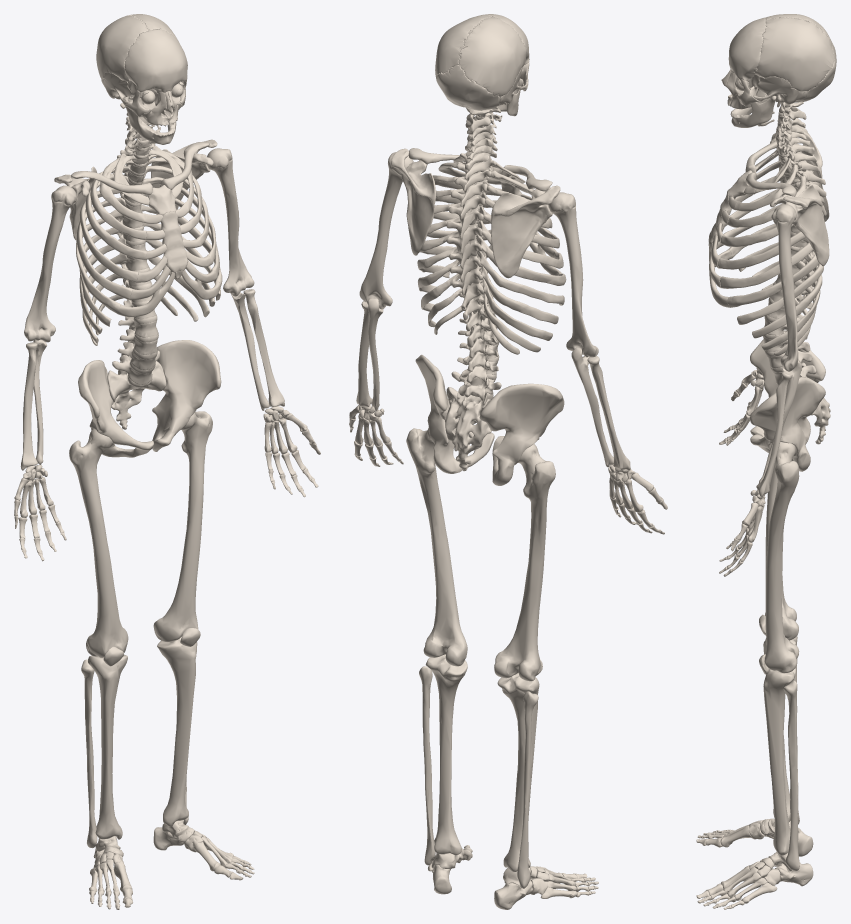
File: bodyparts3d-skeleton.glb
3 views of the same model, side by side, from view 1: azimuth 30°, elevation 25°; view 2: azimuth 150°, elevation 25°; view 3: azimuth 270°, elevation 25° (orthographic). The views are drawn at different scales.
Visible parts, largest first — view 1: STR-ESQ-0230, STR-ESQ-0127, STR-ESQ-0154, STR-ESQ-0148, STR-ESQ-0069, STR-ESQ-0250, STR-ESQ-0021, STR-ESQ-0233, STR-ESQ-0130, STR-ESQ-0243, STR-ESQ-0256, STR-ESQ-0231 (+17 smaller); view 2: STR-ESQ-0230, STR-ESQ-0127, STR-ESQ-0021, STR-ESQ-0243, STR-ESQ-0247, STR-ESQ-0148, STR-ESQ-0250, STR-ESQ-0154, STR-ESQ-0233, STR-ESQ-0145, STR-ESQ-0256, STR-ESQ-0130 (+14 smaller); view 3: STR-ESQ-0127, STR-ESQ-0140, STR-ESQ-0148, STR-ESQ-0154, STR-ESQ-0130, STR-ESQ-0145, STR-ESQ-0128, STR-ESQ-0069, STR-ESQ-0021, STR-ESQ-0230, STR-ESQ-0143, STR-ESQ-0147 (+24 smaller).
Boxes of the visible parts, box(x1,y1,x2,y2) form: STR-ESQ-0230: box(69, 428, 128, 657); STR-ESQ-0127: box(153, 411, 212, 642); STR-ESQ-0154: box(152, 340, 221, 451); STR-ESQ-0148: box(157, 636, 197, 826); STR-ESQ-0069: box(125, 28, 187, 93); STR-ESQ-0250: box(88, 654, 127, 839); STR-ESQ-0021: box(78, 360, 153, 457); STR-ESQ-0233: box(24, 185, 76, 342); STR-ESQ-0130: box(207, 148, 254, 296); STR-ESQ-0243: box(96, 15, 149, 81); STR-ESQ-0256: box(107, 361, 166, 429); STR-ESQ-0231: box(81, 659, 97, 848); STR-ESQ-0230: box(494, 444, 555, 681); STR-ESQ-0127: box(406, 428, 467, 666); STR-ESQ-0021: box(479, 383, 564, 485); STR-ESQ-0243: box(458, 16, 526, 96); STR-ESQ-0247: box(491, 185, 560, 278); STR-ESQ-0148: box(425, 654, 467, 854); STR-ESQ-0250: box(497, 673, 539, 871); STR-ESQ-0154: box(415, 354, 494, 473); STR-ESQ-0233: box(549, 192, 598, 357); STR-ESQ-0145: box(391, 148, 435, 255); STR-ESQ-0256: box(445, 387, 491, 471); STR-ESQ-0130: box(359, 152, 413, 309); STR-ESQ-0127: box(764, 442, 799, 673); STR-ESQ-0140: box(755, 17, 834, 91); STR-ESQ-0148: box(763, 668, 795, 855); STR-ESQ-0154: box(750, 377, 825, 471); STR-ESQ-0130: box(771, 204, 798, 371); STR-ESQ-0145: box(770, 184, 829, 266); STR-ESQ-0128: box(783, 680, 799, 870); STR-ESQ-0069: box(728, 17, 767, 80); STR-ESQ-0021: box(750, 330, 825, 444); STR-ESQ-0230: box(765, 460, 798, 640); STR-ESQ-0143: box(756, 371, 792, 497); STR-ESQ-0147: box(753, 76, 807, 107).
Size of the model in its own units: 648 by 1707 by 254.
